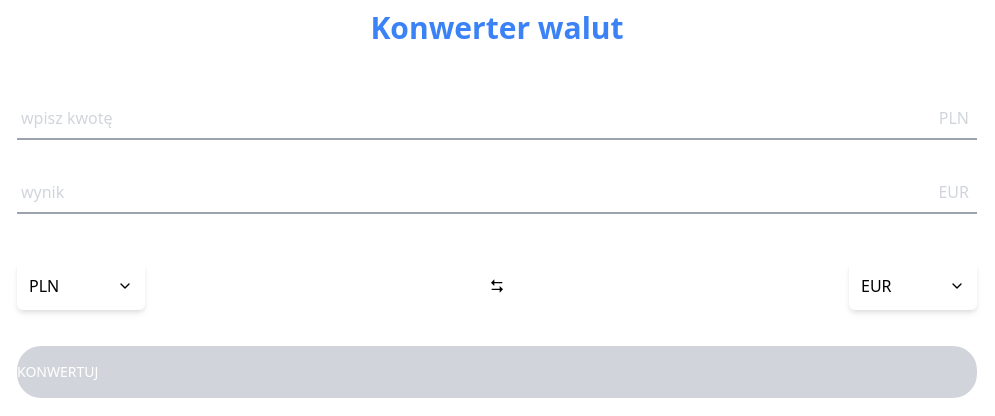
Scenario: form exchange › single input typing string › after typing string in second input and submit should show second error
Expected: the field with test id "firstInputForm" is empty, [17,98,977,140]
Type "example" into the field with test id "secondInputForm" at (497, 197), box [17,180,977,214]
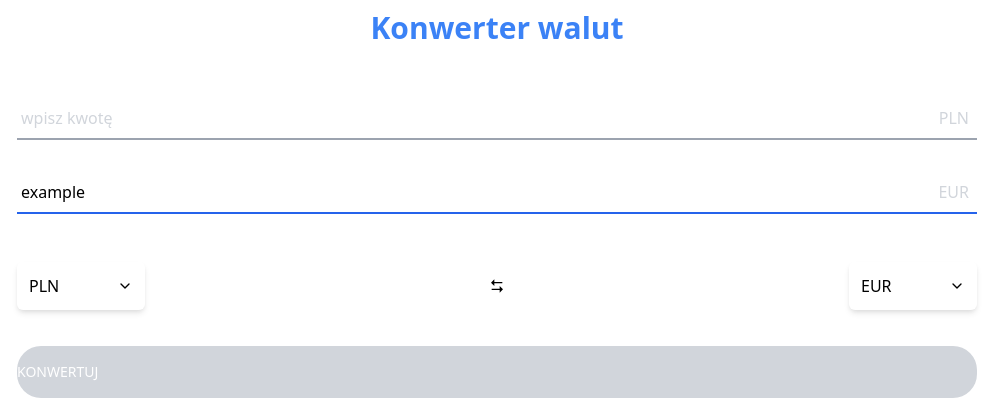
Click the button with test id "buttonSubmitForm" at (497, 372), box [17,346,977,398]
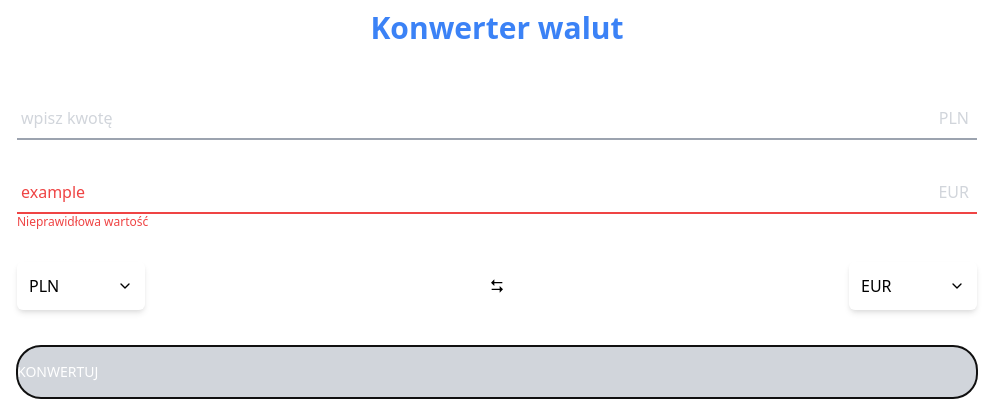
Expected: the field with test id "firstInputForm" is empty, [17,98,977,140]
Result: the text with test id "secondInputError" reads "Nieprawidłowa wartość" at [17,213,148,230]
